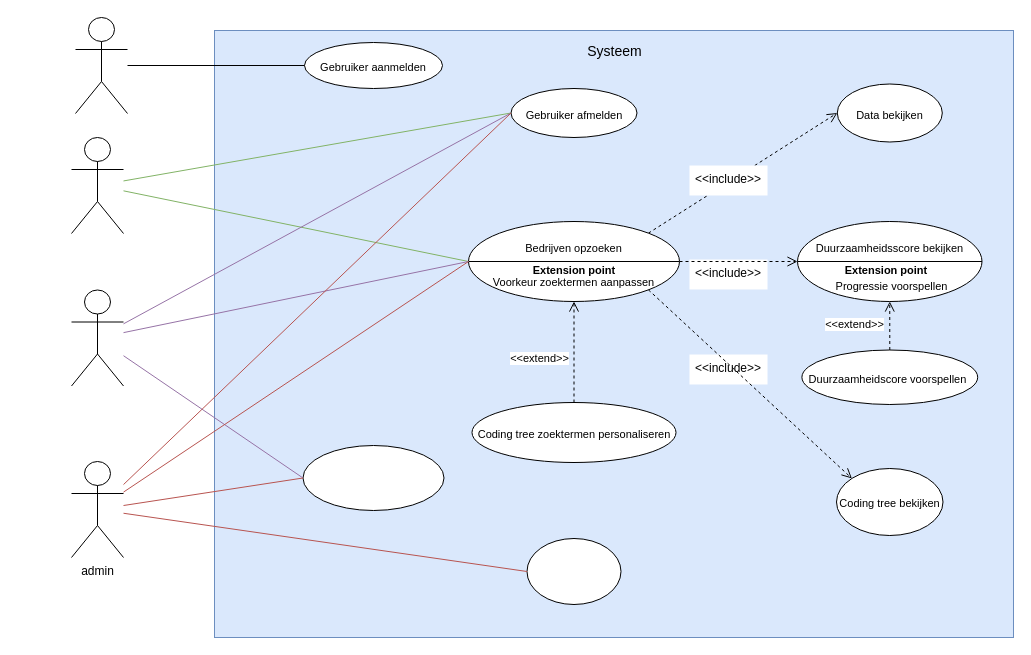
Image size: 1031x655. Some labels were removed from this diagram. The shapes that lost their labels are listed below. From the top down, each one's centre as x and y in pixels, then its label:
At (101,65): "gebruiker (not logged-in)".
At (97,185): "gekende gebruiker (logged-in)".
At (97,337): "beheerder".
At (373,477): "Bijvoegende data ophalen".
At (573,571): "Rollen beheren".
